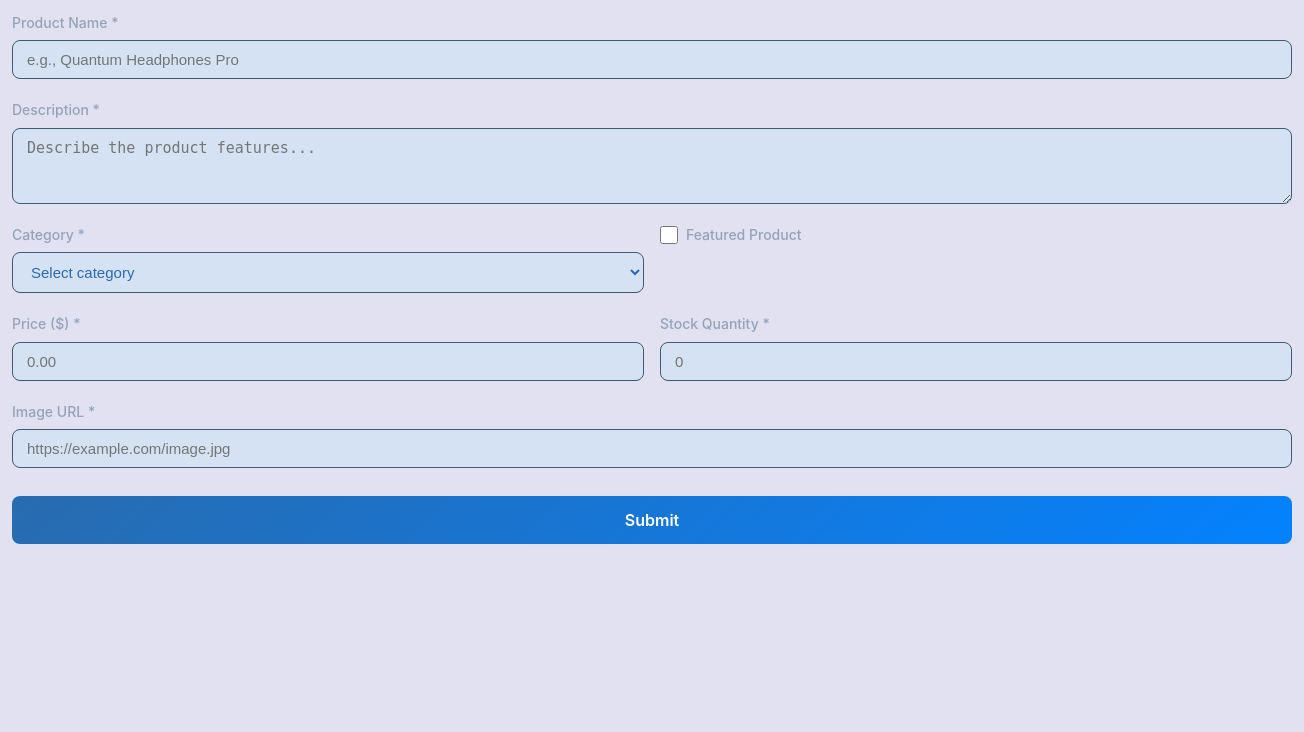
ProductForm › displays validation errors for empty required fields
Click the button "Submit": [652, 520] box [12,496,1292,544]
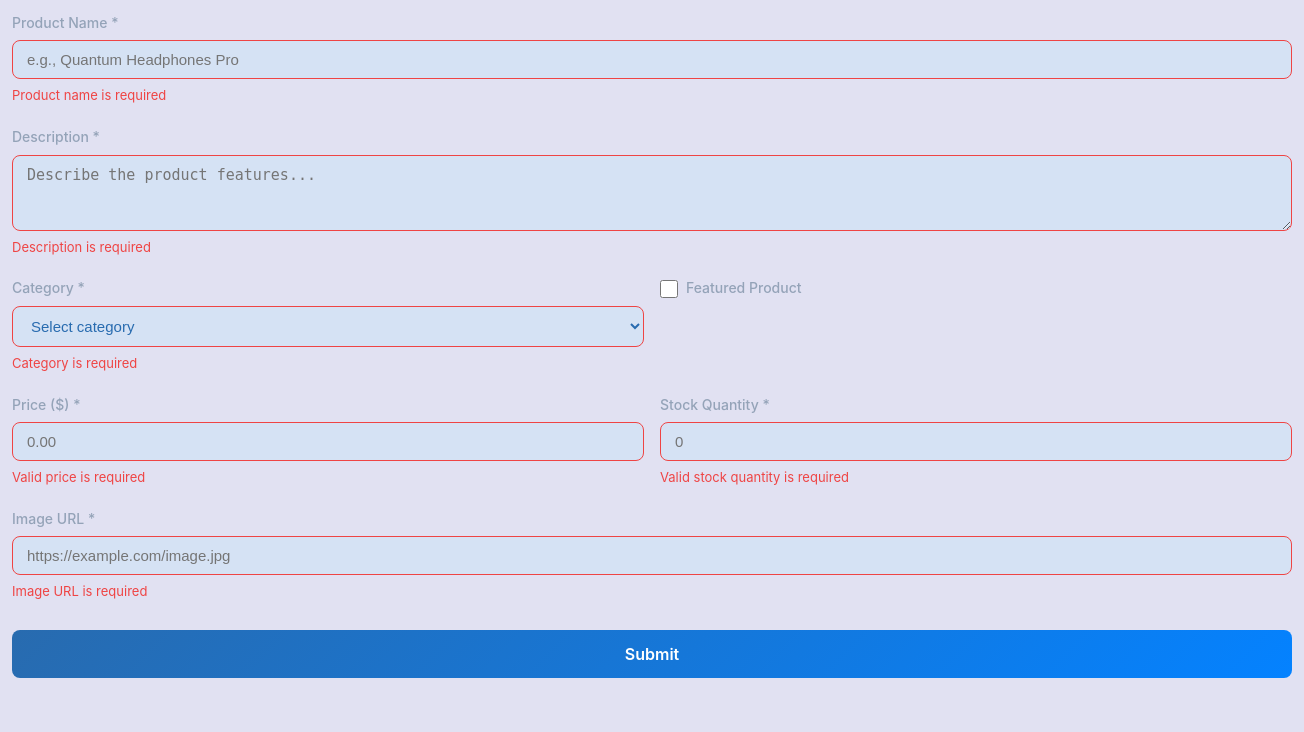
Now the text "Product name is required" is shown, box [12,87,166,103]
Now the text "Description is required" is shown, box [12,239,151,255]
Now the text "Category is required" is shown, box [12,355,137,371]
